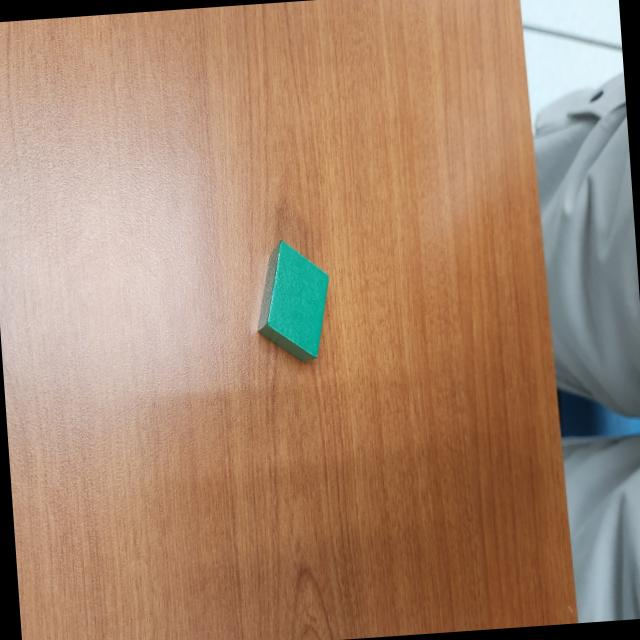green: (252, 236, 338, 366)
